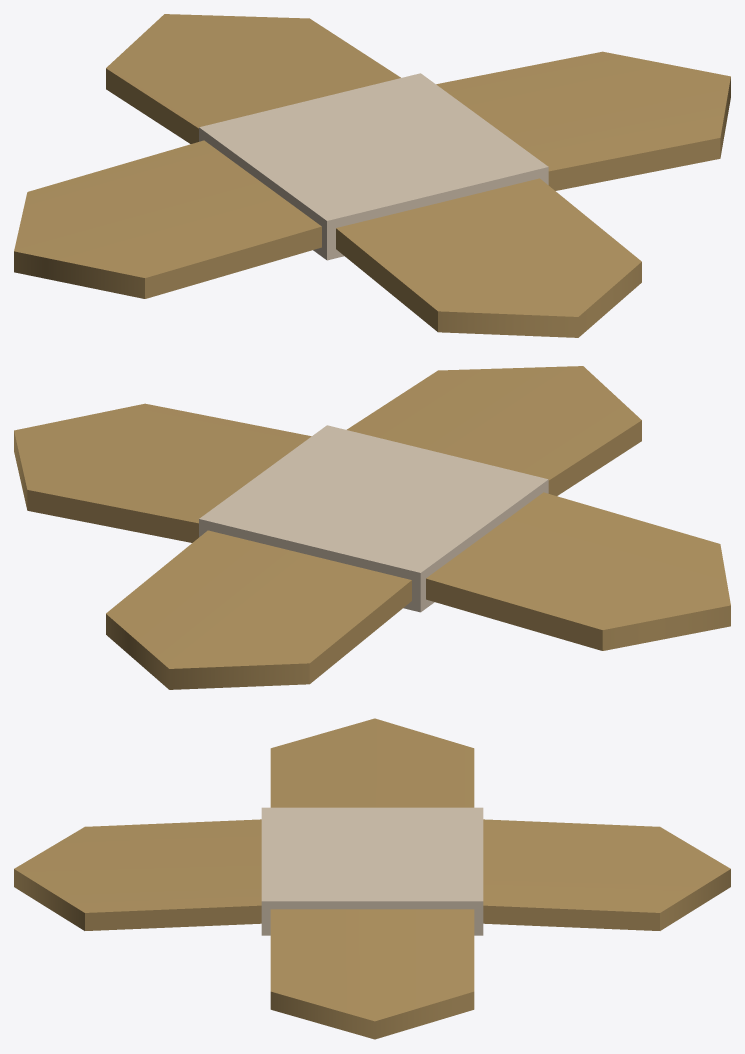
The picture shows the model from 3 angles, top to bottom: view 1: azimuth 30°, elevation 25°; view 2: azimuth 150°, elevation 25°; view 3: azimuth 270°, elevation 25°; orthographic projection. The views are drawn at different scales.
Parts seen in each view (by area): view 1: pCube3; view 2: pCube3; view 3: pCube3.
Part boxes in pixels (x1,y1,x2,y2): pCube3: (14, 14, 730, 337); pCube3: (14, 366, 730, 689); pCube3: (14, 718, 730, 1039).
Size of the model in its own units: 3.23 by 0.1703 by 3.23.
